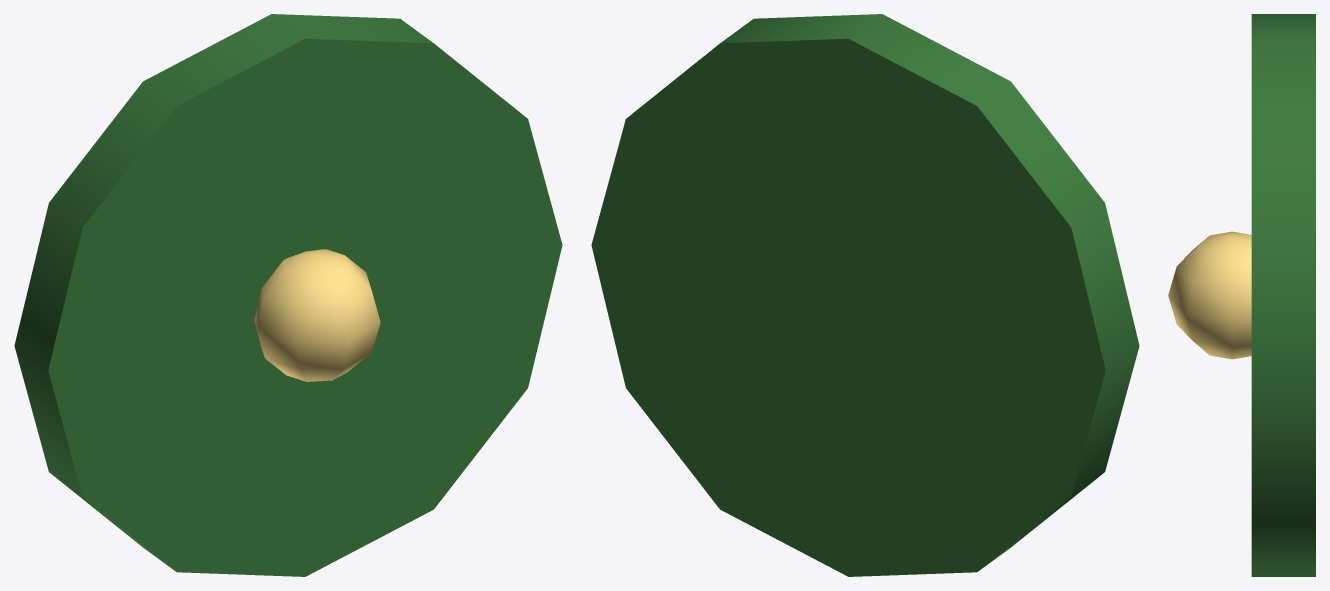
The model's file is shield.glb.
3 views of the same model, side by side, from view 1: azimuth 30°, elevation 25°; view 2: azimuth 150°, elevation 25°; view 3: azimuth 270°, elevation 25° (orthographic). The views are drawn at different scales.
Bounding box in the file's own units: 0.44 × 0.44 × 0.115.
